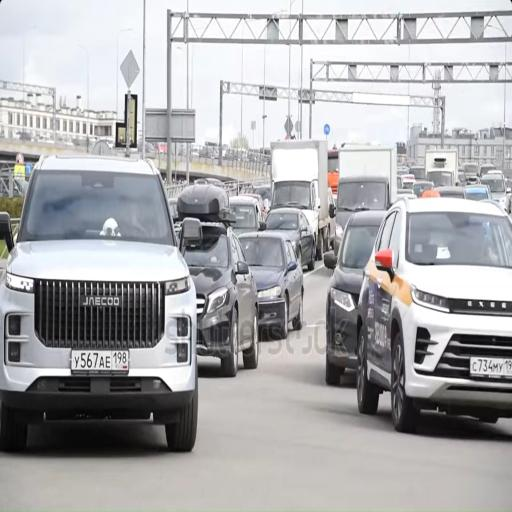License plates: (71, 350, 129, 373), (470, 357, 511, 378)
